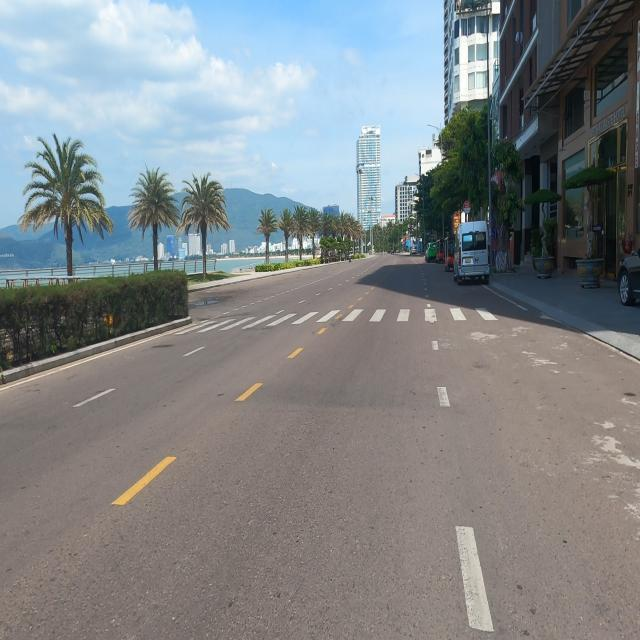walk-crossing: (196, 304, 509, 330)
